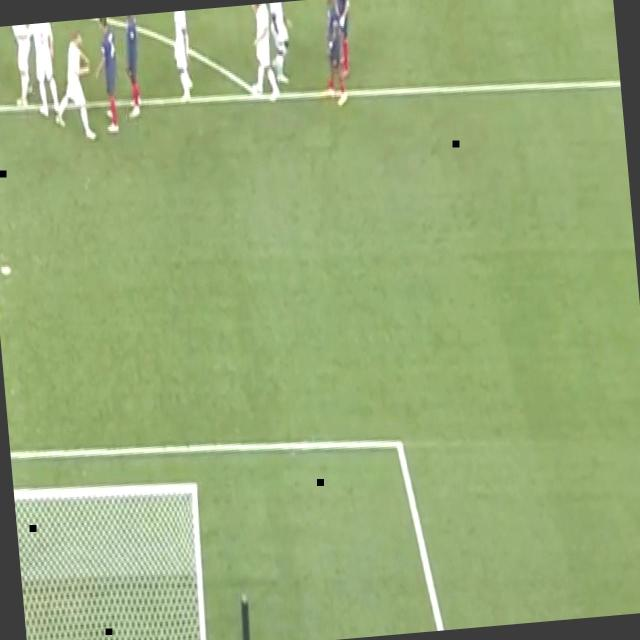player-white: (47, 25, 99, 148), (17, 22, 63, 128), (239, 3, 283, 104), (90, 16, 126, 138), (318, 0, 352, 112), (0, 24, 38, 114), (269, 1, 300, 94), (170, 10, 200, 106), (121, 15, 148, 119), (328, 0, 358, 82)
